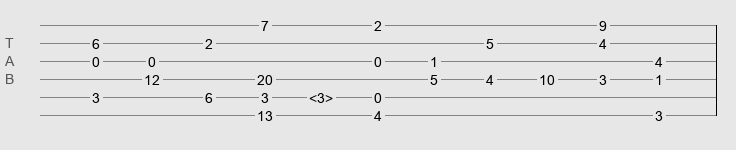0: (92, 54, 100, 64), (148, 54, 156, 64), (374, 54, 382, 64), (374, 90, 382, 100)
1: (430, 54, 438, 64), (655, 72, 663, 82)
10: (539, 72, 555, 82)
12: (144, 72, 160, 82)
13: (257, 108, 273, 118)
2: (205, 36, 213, 46), (374, 18, 382, 28)
20: (257, 72, 273, 82)
3: (92, 90, 100, 100), (261, 90, 269, 100), (599, 72, 607, 82), (655, 108, 663, 118)
4: (374, 108, 382, 118), (486, 72, 494, 82), (599, 36, 607, 46), (655, 54, 663, 64)
5: (430, 72, 438, 82), (486, 36, 494, 46)
6: (92, 36, 100, 46), (205, 90, 213, 100)
7: (261, 18, 269, 28)
9: (599, 18, 607, 28)
harmonic: (309, 90, 333, 100)
